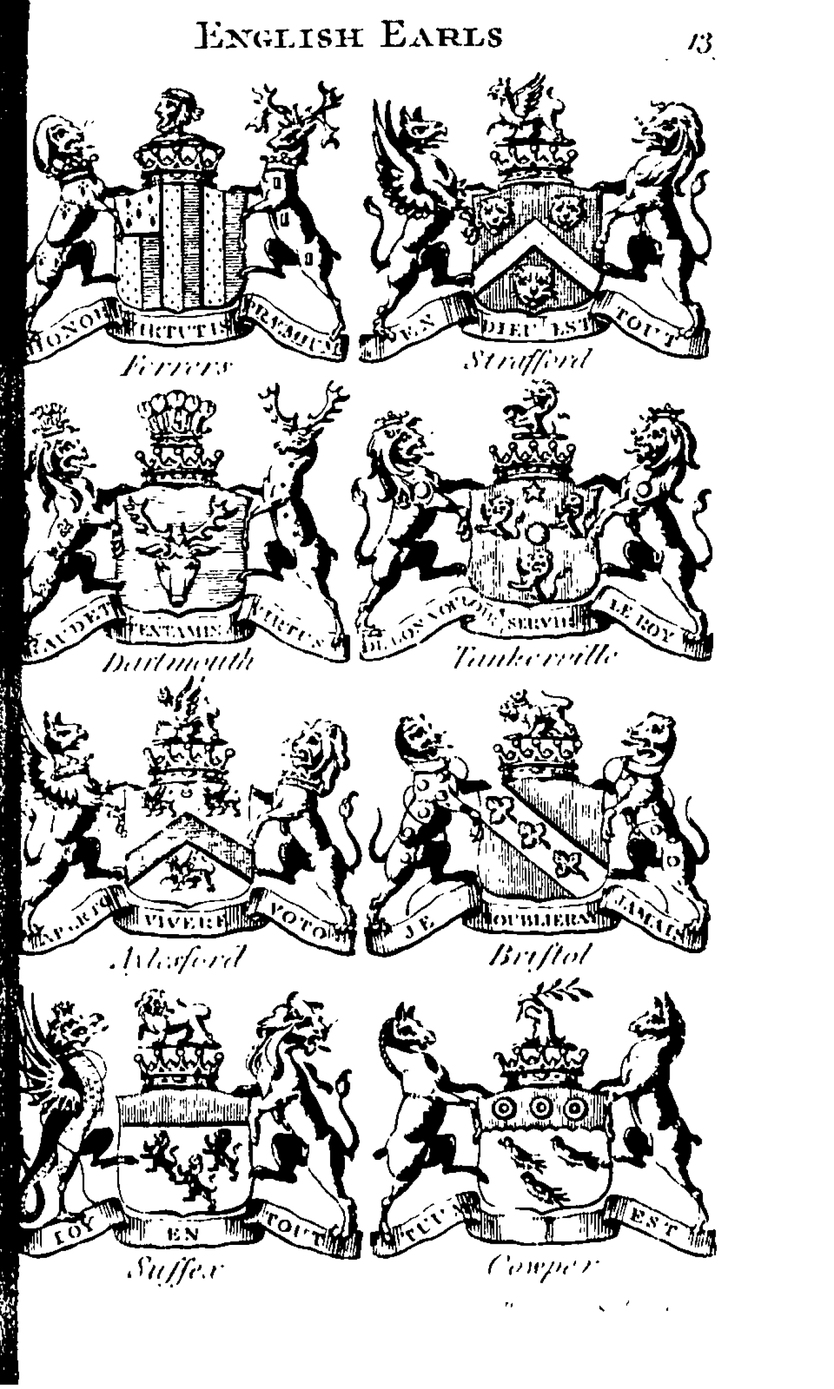coat_of_arms: (372, 971, 716, 1283), (357, 388, 726, 676), (365, 677, 718, 971), (363, 83, 717, 376), (21, 979, 362, 1279), (26, 72, 348, 384), (24, 680, 362, 977), (23, 383, 348, 680)
